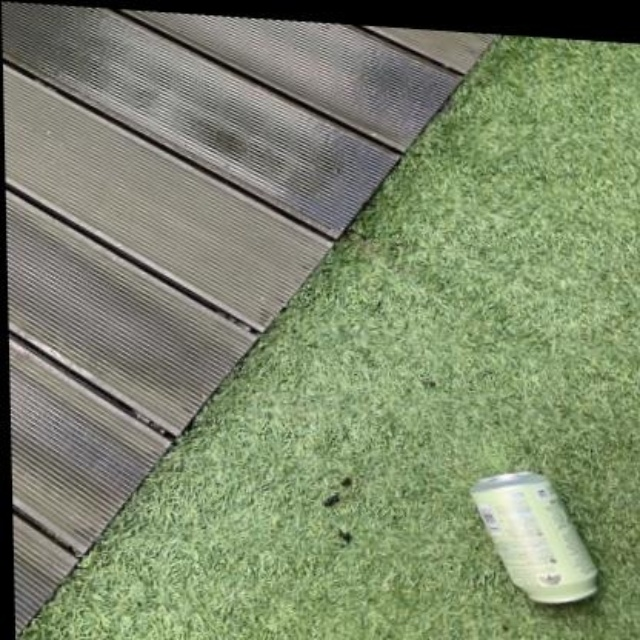trash: (471, 472, 595, 602)
